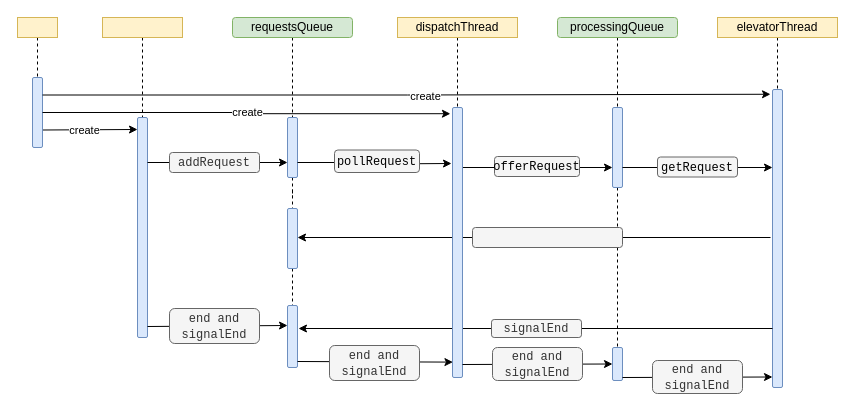
The diagram is 855 pixels wide and 411 high, and some of its shapes have lost their labels. The centre of each missing label's shape, as x and y in pixels:
"inputThread" goes at point (142, 27).
"main" goes at point (37, 27).
"putPersonRequestsBack" goes at point (547, 237).
